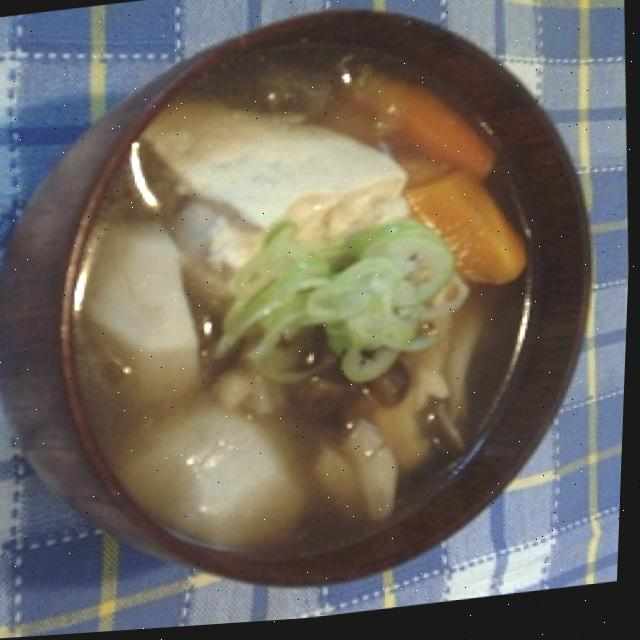蔬菜料理: (26, 0, 625, 634)
